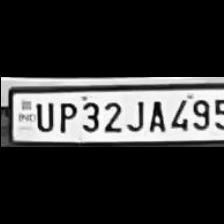2: (99, 98, 123, 132)
3: (76, 98, 100, 132)
4: (166, 94, 188, 132)
5: (210, 94, 222, 130)
9: (188, 94, 210, 130)
A: (144, 97, 166, 132)
J: (123, 96, 143, 132)
P: (54, 100, 76, 132)
U: (29, 98, 53, 132)
